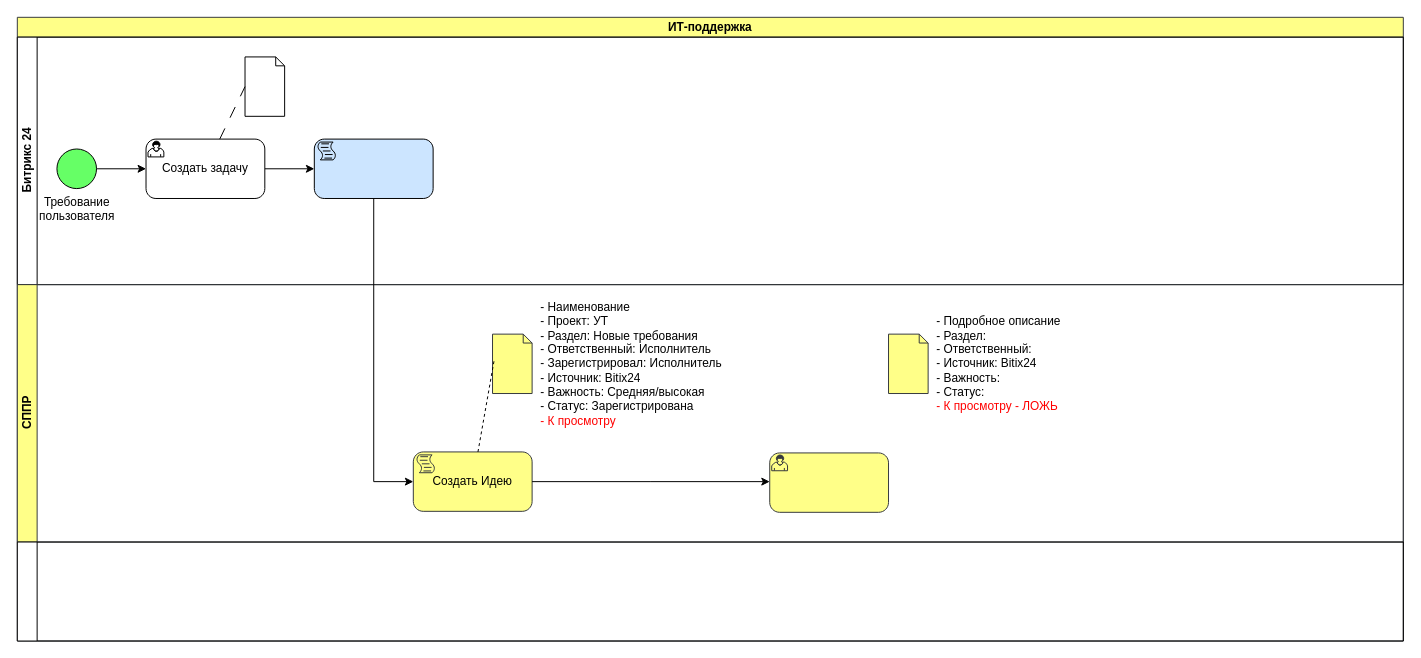
Some shapes in this 1421 by 658 pixel diagram are drawn without their labels. Each missing label, with the centre of its shape:
- Наименование - Постановщик - Исполнитель: [264,86]
SCRUM: [709,591]
Обработать Идею: [829,482]
Создать БП ИТ-поддержка: [373,168]
